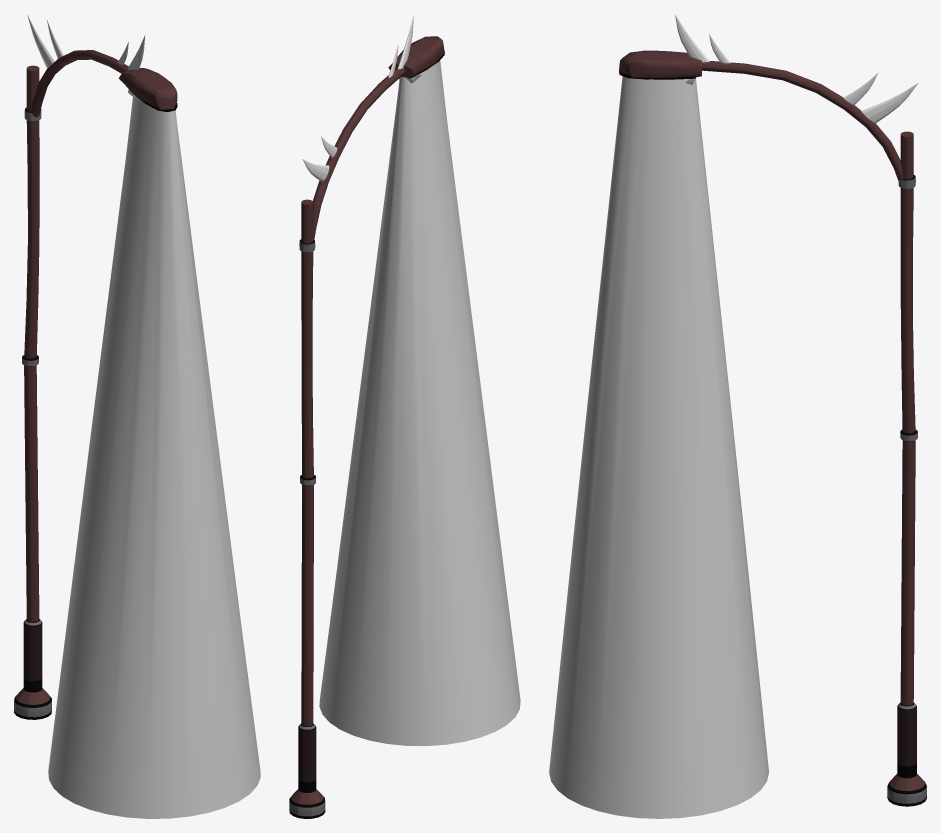
The model's file is streetLamp0.glb.
3 renders of one model, left to right at view 1: azimuth 30°, elevation 25°; view 2: azimuth 150°, elevation 25°; view 3: azimuth 270°, elevation 25°, orthographic. The views are drawn at different scales.
Parts seen in each view (by area): view 1: streetLamp0_LOD0; view 2: streetLamp0_LOD0; view 3: streetLamp0_LOD0.
Part boxes in pixels (x1,y1,x2,y2): streetLamp0_LOD0: (14,15,260,818); streetLamp0_LOD0: (289,15,520,818); streetLamp0_LOD0: (549,14,926,818).
Size of what is drawn, in the model's own units: 4.14 by 16.3 by 7.12.
2 materials, 1 textured.
